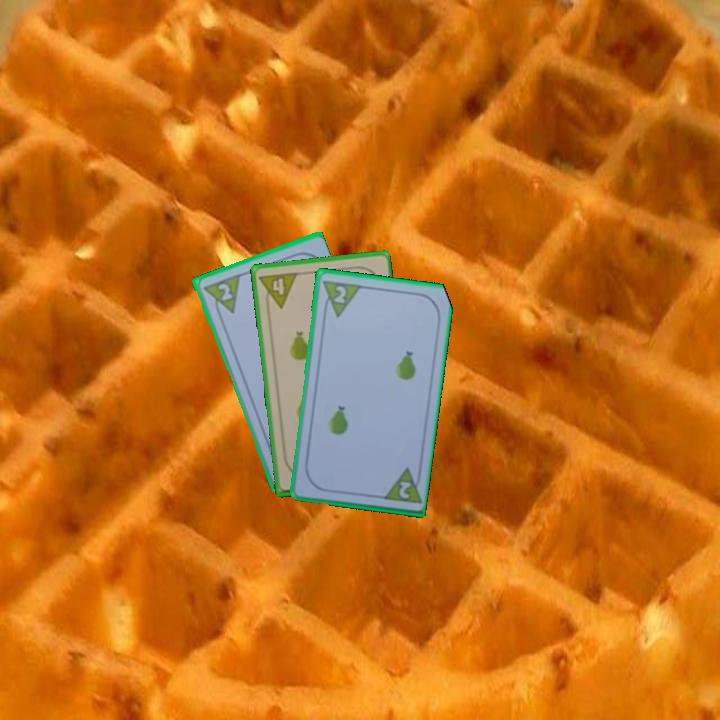2p: (199, 270, 242, 320), (395, 477, 414, 502), (330, 282, 349, 306)
4p: (256, 268, 300, 312)
